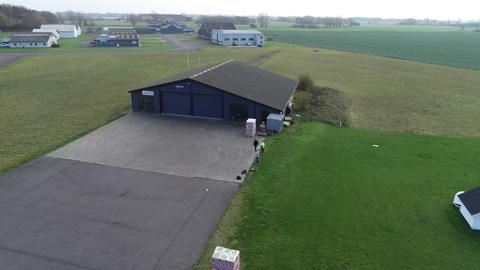RockwoolPallet: (246, 118, 257, 137)
